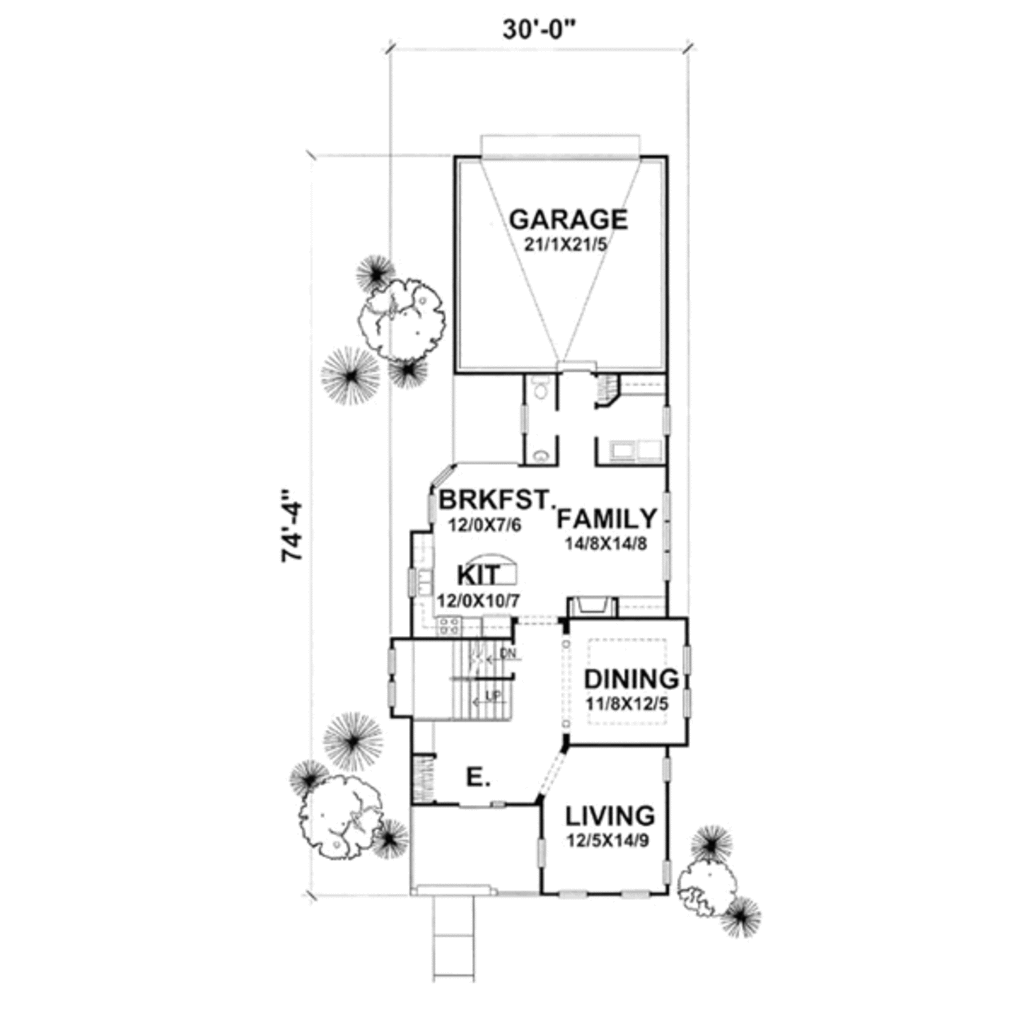large_sink: (522, 370, 554, 409)
stairs: (387, 638, 517, 720)
windows: (658, 483, 676, 587), (681, 639, 696, 721), (531, 835, 550, 871)
